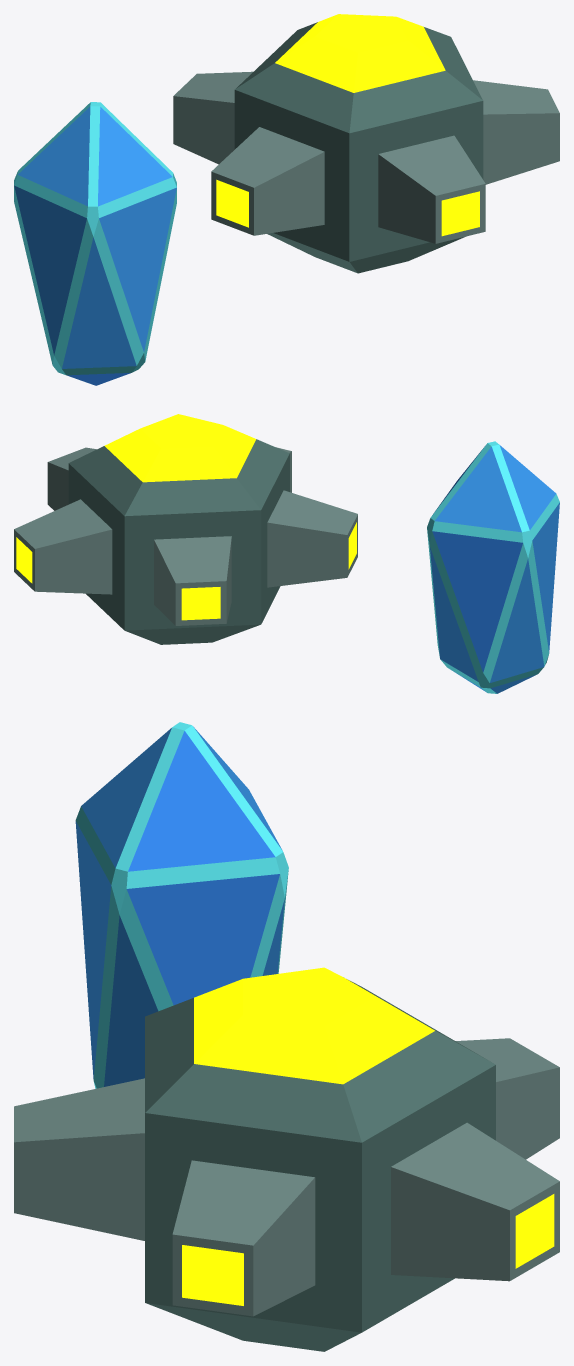
File: items-1.fbx
The picture shows the model from 3 angles, top to bottom: view 1: azimuth 30°, elevation 25°; view 2: azimuth 150°, elevation 25°; view 3: azimuth 270°, elevation 25°; orthographic projection. The views are drawn at different scales.
Parts seen in each view (by area): view 1: Cylinder.001, Cylinder; view 2: Cylinder.001, Cylinder; view 3: Cylinder.001, Cylinder.
Boxes of the visible parts, left/top/right/bottom form: Cylinder.001: left=173, top=14, right=559, bottom=273; Cylinder: left=14, top=102, right=176, bottom=385; Cylinder.001: left=14, top=414, right=357, bottom=644; Cylinder: left=427, top=441, right=559, bottom=693; Cylinder.001: left=14, top=967, right=559, bottom=1351; Cylinder: left=75, top=722, right=288, bottom=1088.
Size of the model in its own units: 227 by 112 by 135.
